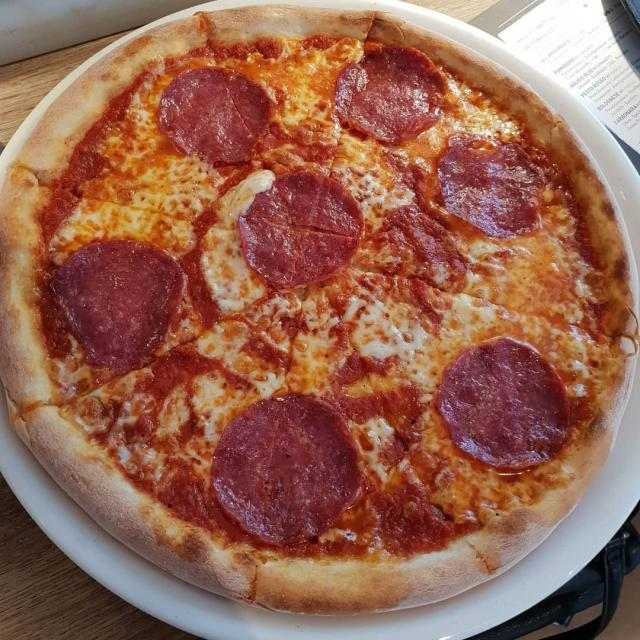pepperoni: (207, 388, 366, 550), (432, 333, 573, 474), (42, 237, 190, 370), (236, 169, 366, 291), (434, 134, 548, 241), (333, 42, 448, 146), (159, 64, 276, 165)
pizza: (0, 0, 640, 619)
